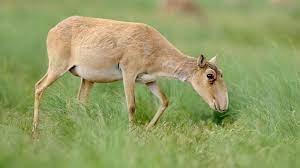saiga: (30, 14, 230, 144)
